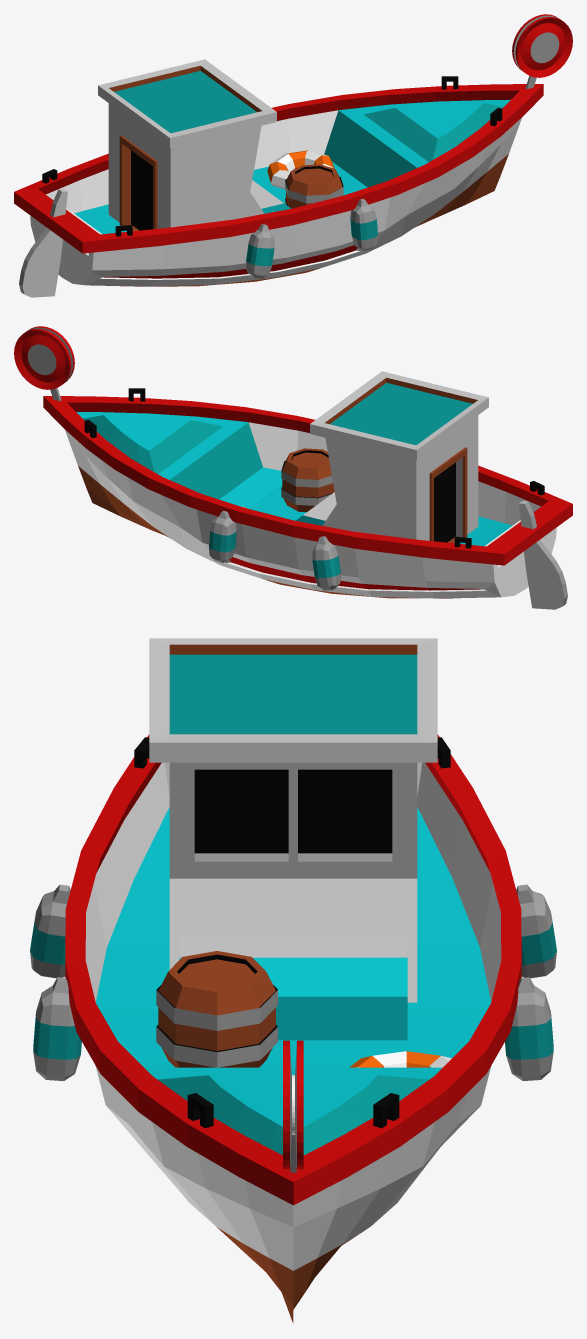
File: fishing_boat.glb
The picture shows the model from 3 angles, top to bottom: view 1: azimuth 30°, elevation 25°; view 2: azimuth 150°, elevation 25°; view 3: azimuth 270°, elevation 25°; orthographic projection. The views are drawn at different scales.
Parts seen in each view (by area): view 1: fishingboat_greek; view 2: fishingboat_greek; view 3: fishingboat_greek.
Part boxes in pixels (<box>): fishingboat_greek: <box>14,14,572,297</box>; fishingboat_greek: <box>14,326,572,609</box>; fishingboat_greek: <box>30,638,556,1323</box>.
Size of the model in its own units: 10.59 by 3.49 by 4.4.
Materials: 1 (1 with a texture image).
